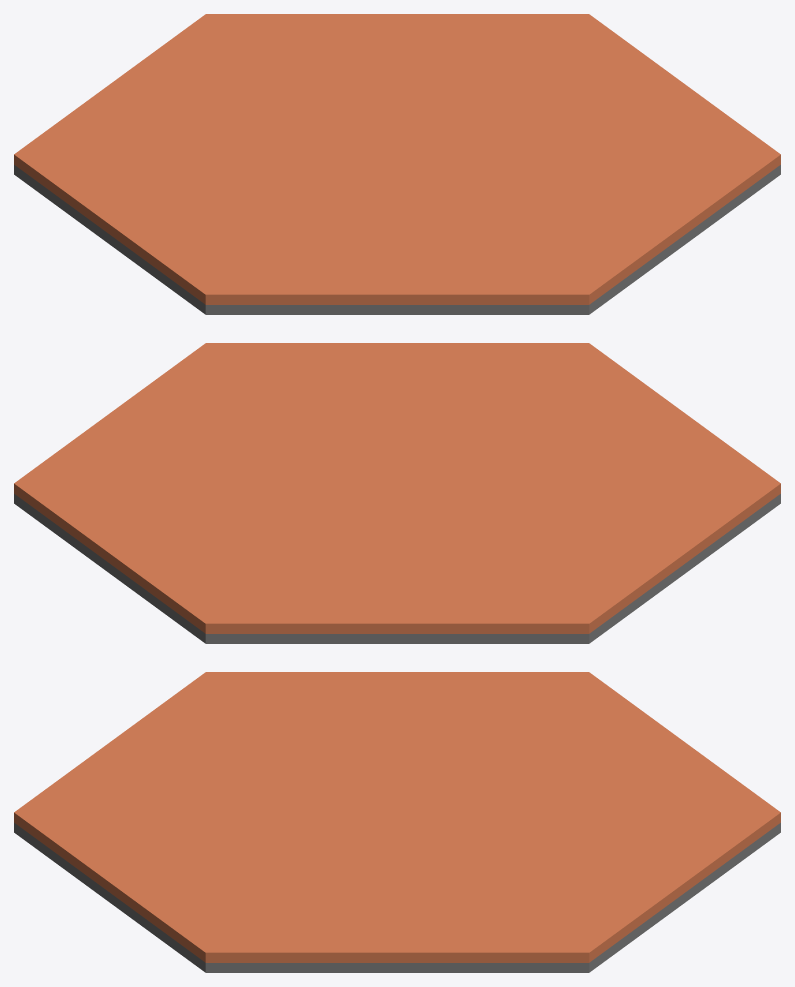
Rendered from Default-Space-v1-without ground.fbx.
3 renders of one model, top to bottom at view 1: azimuth 30°, elevation 25°; view 2: azimuth 150°, elevation 25°; view 3: azimuth 270°, elevation 25°, orthographic.
Visible parts, largest first — view 1: mergedBlocks; view 2: mergedBlocks; view 3: mergedBlocks.
Boxes of the visible parts, x1,y1,x2,y2 form: mergedBlocks: (14, 14, 780, 314); mergedBlocks: (14, 343, 780, 643); mergedBlocks: (14, 672, 780, 972).
Size of the model in its own units: 600 by 109 by 693.
